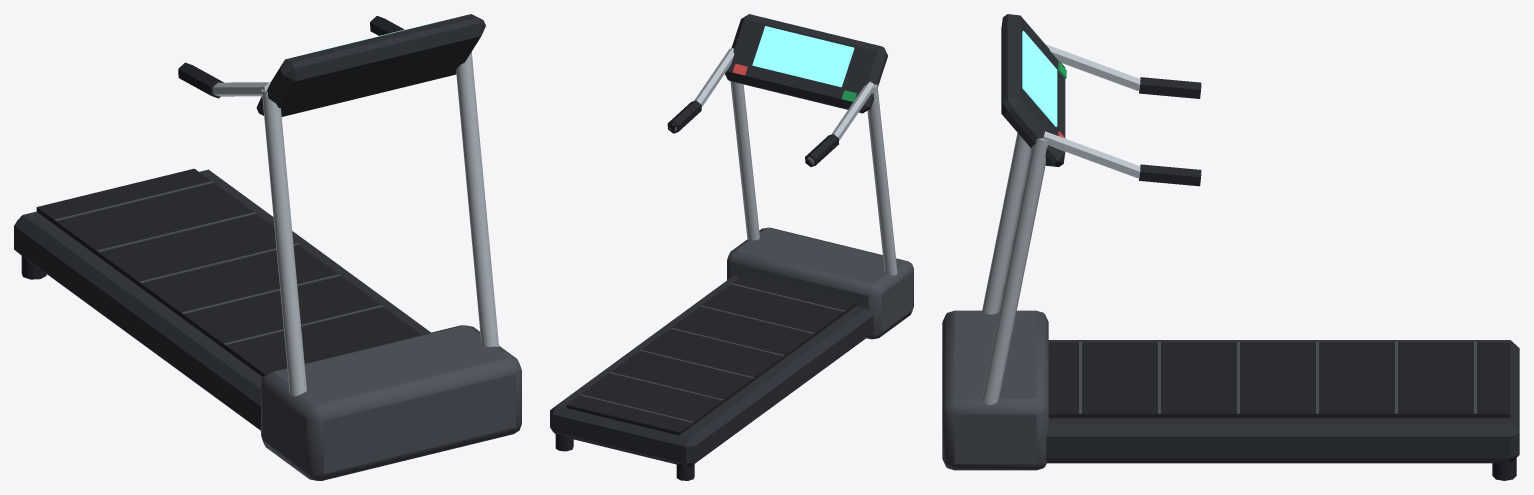
File: treadmill.glb
3 renders of one model, left to right at view 1: azimuth 30°, elevation 25°; view 2: azimuth 150°, elevation 25°; view 3: azimuth 270°, elevation 25°, orthographic. The views are drawn at different scales.
Parts seen in each view (by area): view 1: treadmill; view 2: treadmill; view 3: treadmill.
Boxes of the visible parts, bbox=[...] form: treadmill: bbox=[14, 14, 521, 480]; treadmill: bbox=[550, 14, 913, 480]; treadmill: bbox=[942, 14, 1519, 480].
Bounding box in the file's own units: 0.76 × 1.38 × 1.9.
